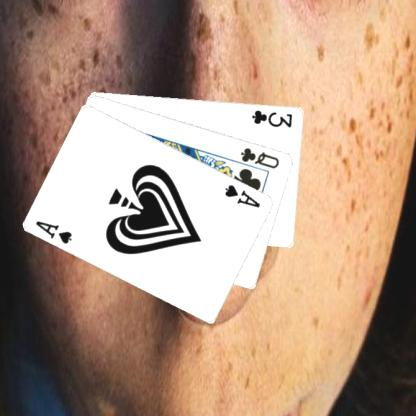3C: (249, 107, 294, 128)
AS: (222, 181, 262, 209), (33, 218, 74, 245)
QC: (238, 145, 280, 170)
